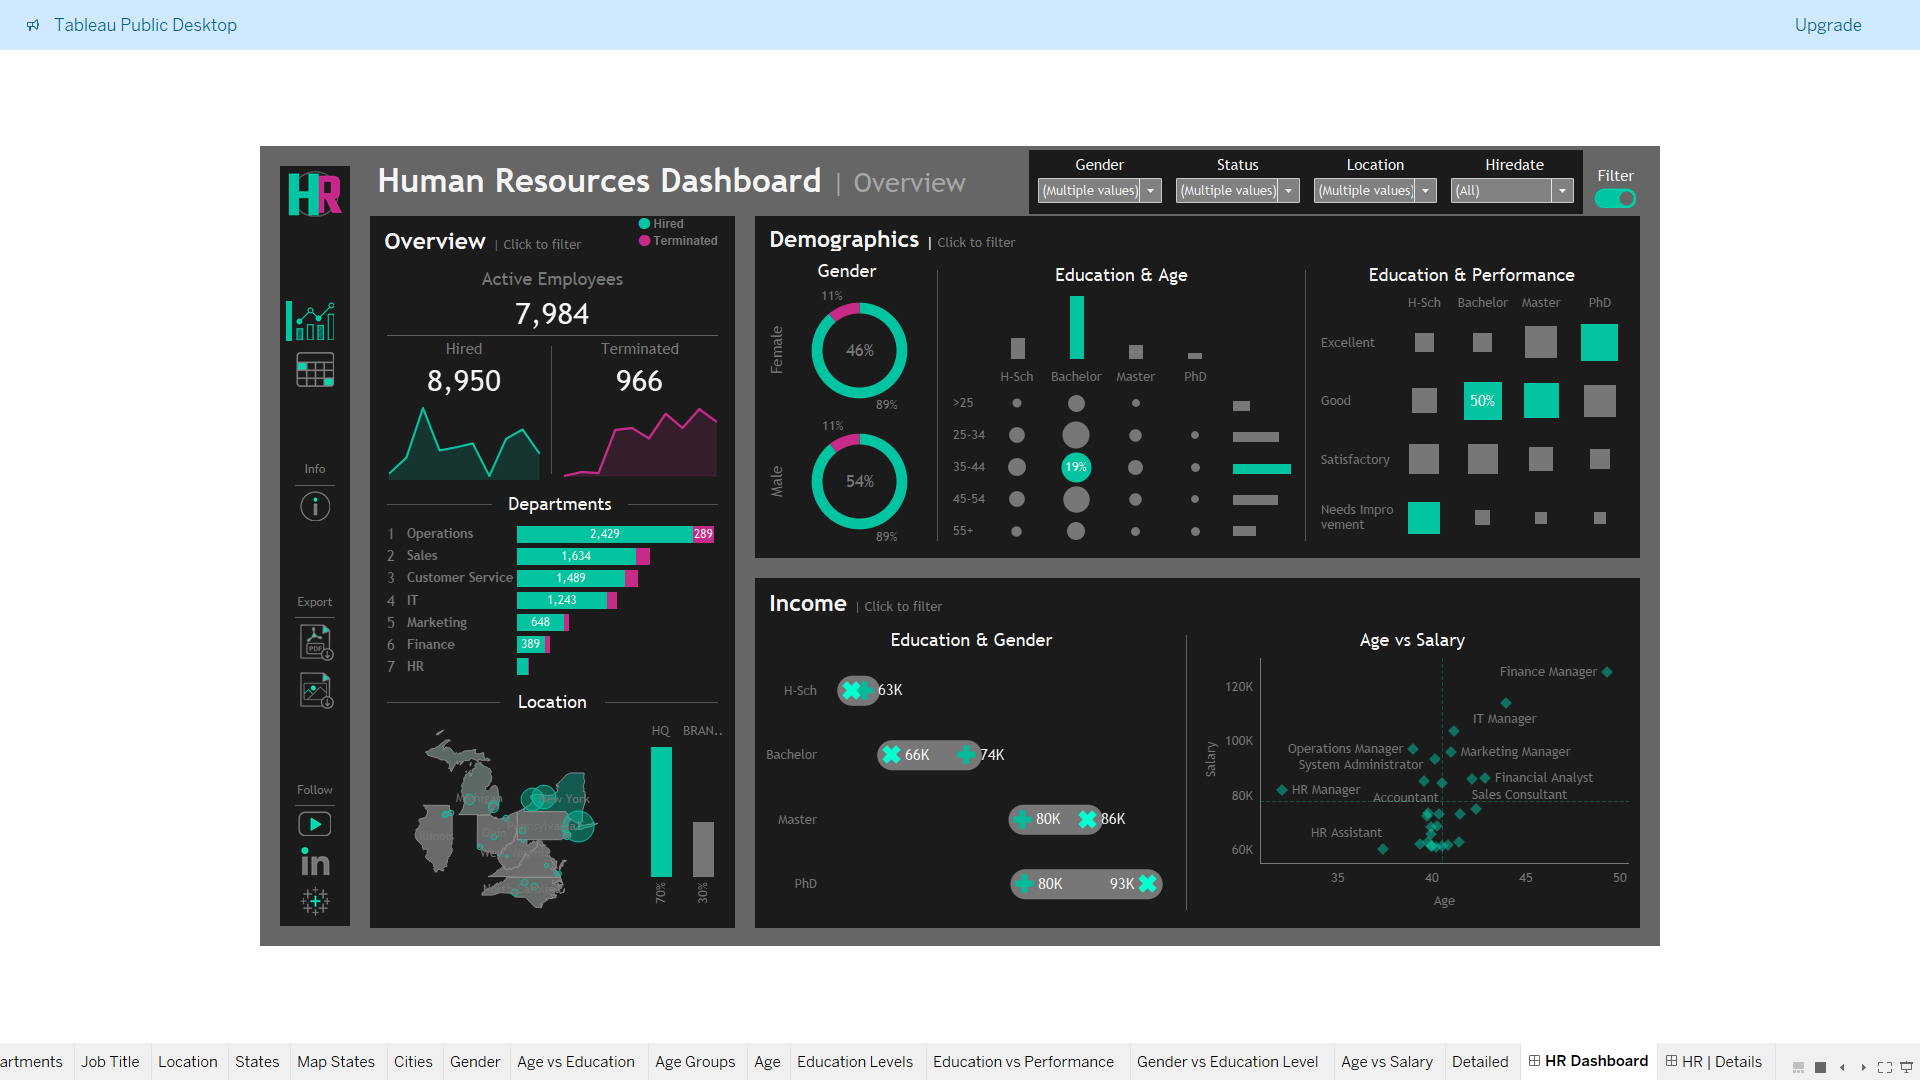

The page's visual inventory and layout, read from the dashboard file:
{"tool":"tableau","page":{"name":"HR Dashboard","canvas":[1400,800],"ordinal":0},"visuals":[{"type":"blank","box":[90,0,1309,283]},{"type":"text","box":[110,0,683,70]},{"type":"blank","box":[793,0,587,70]},{"type":"filter","title":"Gender vs Education Level","param":"[federated.1ihkxck0fx9p3s12vnsvg0oa9f7d].[none:Gender:nk]","box":[771,6,138,60]},{"type":"filter","title":"Gender vs Education Level","param":"[federated.1ihkxck0fx9p3s12vnsvg0oa9f7d].[none:Calculation_1214564576196677632:n","box":[909,6,138,60]},{"type":"filter","title":"Gender vs Education Level","param":"[federated.1ihkxck0fx9p3s12vnsvg0oa9f7d].[none:Calculation_934496973637033986:nk","box":[1047,6,137,60]},{"type":"filter","title":"Gender vs Education Level","param":"[federated.1ihkxck0fx9p3s12vnsvg0oa9f7d].[yr:Hiredate:ok]","box":[1184,6,137,60]},{"type":"text","box":[1320,19,72,22]},{"type":"image","param":"Image/Logo.png","box":[20,20,70,55]},{"type":"dashboard-object","box":[1334,31,42,44]},{"type":"text","box":[375,66,86,44]},{"type":"text","box":[117,77,351,35]},{"type":"text","box":[502,77,871,32]},{"type":"blank","box":[30,85,50,70.7]},{"type":"text","box":[117,112,351,35]},{"type":"text","box":[502,114,175,21]},{"type":"blank","box":[677,114,1,291]},{"type":"text","box":[683,114,357,29]},{"type":"blank","box":[1045,114,1,291]},{"type":"text","box":[1051,114,322,29]},{"type":"worksheet","title":"Gender","mark":"Pie","rows":["Gender"],"cols":["Calculation_934496973642215429","Calculation_934496973642215429"],"box":[502,135,175,270]},{"type":"worksheet","title":"Education Levels","mark":"Bar","rows":["Calculation_743938414374354944"],"cols":["Education Level"],"box":[683,143,357,74]},{"type":"worksheet","title":"Education vs Performance","mark":"Square","rows":["Performance Rating"],"cols":["Education Level"],"box":[1051,143,322,262]},{"type":"worksheet","title":"BAN Active","mark":"Text","box":[117,147,351,42]},{"type":"blank","box":[26,155,6,40]},{"type":"dashboard-object","box":[30,155.7,50,38]},{"type":"blank","box":[117,189,351,1]},{"type":"text","box":[117,190,174,26]},{"type":"blank","box":[291,190,1,148]},{"type":"text","box":[292,190,176,26]},{"type":"blank","box":[30,193.7,50,10]},{"type":"dashboard-object","box":[30,203.7,50,38]},{"type":"worksheet","title":"BAN Hired","mark":"Text","box":[117,216,174,37]},{"type":"worksheet","title":"BAN Terminated","mark":"Text","box":[292,216,176,38]},{"type":"worksheet","title":"Age vs Education","mark":"Circle","rows":["Calculation_934496973645828103"],"cols":["Education Level"],"box":[683,217,286,188]},{"type":"worksheet","title":"Age Groups","mark":"Bar","rows":["Calculation_934496973645828103"],"cols":["Calculation_743938414374354944"],"box":[969,217,69,188]},{"type":"blank","box":[30,241.7,50,70.7]},{"type":"worksheet","title":"Hired By Year","mark":"Line","rows":["Calculation_743938414374354944","Calculation_743938414374354944"],"cols":["Hiredate"],"box":[117,253,174,85]},{"type":"worksheet","title":"Terminated By Year","mark":"Line","rows":["Calculation_743938414374719489","Calculation_743938414374719489"],"cols":["Termdate"],"box":[292,254,176,84]},{"type":"text","box":[90,283,1309,250]},{"type":"text","box":[30,312.5,50,22]},{"type":"blank","box":[30,334.5,50,11]},{"type":"blank","box":[127,343,105,30]},{"type":"text","box":[232,343,136,30]},{"type":"blank","box":[368,343,90,30]},{"type":"dashboard-object","box":[30,345.5,50,30]},{"type":"worksheet","title":"Departments","mark":"Bar","rows":["Calculation_934496973636399105","Department"],"cols":["Calculation_743938414374354944"],"box":[117,373,351,163]},{"type":"blank","box":[30,375.5,50,70.7]},{"type":"text","box":[502,439,871,35]},{"type":"text","box":[30,446.2,50,20]},{"type":"blank","box":[30,466.2,50,11]},{"type":"dashboard-object","box":[30,477.2,50,38]},{"type":"text","box":[502,479,419,29]},{"type":"blank","box":[926,479,1,295]},{"type":"text","box":[932,479,441,29]},{"type":"worksheet","title":"Gender vs Education Level","mark":"Square","rows":["Education Level"],"cols":["Salary","Salary"],"box":[502,508,419,266]},{"type":"worksheet","title":"Age vs Salary","mark":"Shape","rows":["Salary"],"cols":["Calculation_934496973644812294"],"box":[932,508,441,266]},{"type":"blank","box":[30,515.2,50,10]},{"type":"dashboard-object","box":[30,525.2,50,38]},{"type":"blank","box":[90,533,1309,267]},{"type":"blank","box":[127,541,113,30]},{"type":"text","box":[240,541,105,30]},{"type":"blank","box":[345,541,113,30]},{"type":"blank","box":[30,563.2,50,70.7]},{"type":"worksheet","title":"Map States","mark":"Multipolygon","box":[117,571,258.7,204]},{"type":"worksheet","title":"Location","mark":"Bar","rows":["Calculation_743938414374354944"],"cols":["Calculation_934496973637033986","Calculation1"],"box":[375.7,571,92.3,204]},{"type":"text","box":[30,634,50,20]},{"type":"blank","box":[30,654,50,11]},{"type":"image","param":"Image/contact-channel.png","box":[30,665,50,25]},{"type":"blank","box":[30,690,50,10]},{"type":"image","param":"Image/contact-linkedin.png","box":[30,700,50,30]},{"type":"blank","box":[30,730,50,10]},{"type":"image","param":"Image/contact-public.png","box":[30,740,50,30]}]}

Visuals, with their boxes on the page's 1400x800 design canvas (x1, y1, x2, y2). These are canvas units, not pixel positions in the 1920x1080 screenshot, which may show the page scaled, cropped or inside an application window:
blank: BBox(90, 0, 1399, 283)
text: BBox(110, 0, 793, 70)
blank: BBox(793, 0, 1380, 70)
"Gender vs Education Level" filter: BBox(771, 6, 909, 66)
"Gender vs Education Level" filter: BBox(909, 6, 1047, 66)
"Gender vs Education Level" filter: BBox(1047, 6, 1184, 66)
"Gender vs Education Level" filter: BBox(1184, 6, 1321, 66)
text: BBox(1320, 19, 1392, 41)
image: BBox(20, 20, 90, 75)
dashboard-object: BBox(1334, 31, 1376, 75)
text: BBox(375, 66, 461, 110)
text: BBox(117, 77, 468, 112)
text: BBox(502, 77, 1373, 109)
blank: BBox(30, 85, 80, 156)
text: BBox(117, 112, 468, 147)
text: BBox(502, 114, 677, 135)
blank: BBox(677, 114, 678, 405)
text: BBox(683, 114, 1040, 143)
blank: BBox(1045, 114, 1046, 405)
text: BBox(1051, 114, 1373, 143)
"Gender" worksheet (Pie marks): BBox(502, 135, 677, 405)
"Education Levels" worksheet (Bar marks): BBox(683, 143, 1040, 217)
"Education vs Performance" worksheet (Square marks): BBox(1051, 143, 1373, 405)
"BAN Active" worksheet (Text marks): BBox(117, 147, 468, 189)
blank: BBox(26, 155, 32, 195)
dashboard-object: BBox(30, 156, 80, 194)
blank: BBox(117, 189, 468, 190)
text: BBox(117, 190, 291, 216)
blank: BBox(291, 190, 292, 338)
text: BBox(292, 190, 468, 216)
blank: BBox(30, 194, 80, 204)
dashboard-object: BBox(30, 204, 80, 242)
"BAN Hired" worksheet (Text marks): BBox(117, 216, 291, 253)
"BAN Terminated" worksheet (Text marks): BBox(292, 216, 468, 254)
"Age vs Education" worksheet (Circle marks): BBox(683, 217, 969, 405)
"Age Groups" worksheet (Bar marks): BBox(969, 217, 1038, 405)
blank: BBox(30, 242, 80, 312)
"Hired By Year" worksheet (Line marks): BBox(117, 253, 291, 338)
"Terminated By Year" worksheet (Line marks): BBox(292, 254, 468, 338)
text: BBox(90, 283, 1399, 533)
text: BBox(30, 312, 80, 334)
blank: BBox(30, 334, 80, 346)
blank: BBox(127, 343, 232, 373)
text: BBox(232, 343, 368, 373)
blank: BBox(368, 343, 458, 373)
dashboard-object: BBox(30, 346, 80, 376)
"Departments" worksheet (Bar marks): BBox(117, 373, 468, 536)
blank: BBox(30, 376, 80, 446)
text: BBox(502, 439, 1373, 474)
text: BBox(30, 446, 80, 466)
blank: BBox(30, 466, 80, 477)
dashboard-object: BBox(30, 477, 80, 515)
text: BBox(502, 479, 921, 508)
blank: BBox(926, 479, 927, 774)
text: BBox(932, 479, 1373, 508)
"Gender vs Education Level" worksheet (Square marks): BBox(502, 508, 921, 774)
"Age vs Salary" worksheet (Shape marks): BBox(932, 508, 1373, 774)
blank: BBox(30, 515, 80, 525)
dashboard-object: BBox(30, 525, 80, 563)
blank: BBox(90, 533, 1399, 800)
blank: BBox(127, 541, 240, 571)
text: BBox(240, 541, 345, 571)
blank: BBox(345, 541, 458, 571)
blank: BBox(30, 563, 80, 634)
"Map States" worksheet (Multipolygon marks): BBox(117, 571, 376, 775)
"Location" worksheet (Bar marks): BBox(376, 571, 468, 775)
text: BBox(30, 634, 80, 654)
blank: BBox(30, 654, 80, 665)
image: BBox(30, 665, 80, 690)
blank: BBox(30, 690, 80, 700)
image: BBox(30, 700, 80, 730)
blank: BBox(30, 730, 80, 740)
image: BBox(30, 740, 80, 770)
